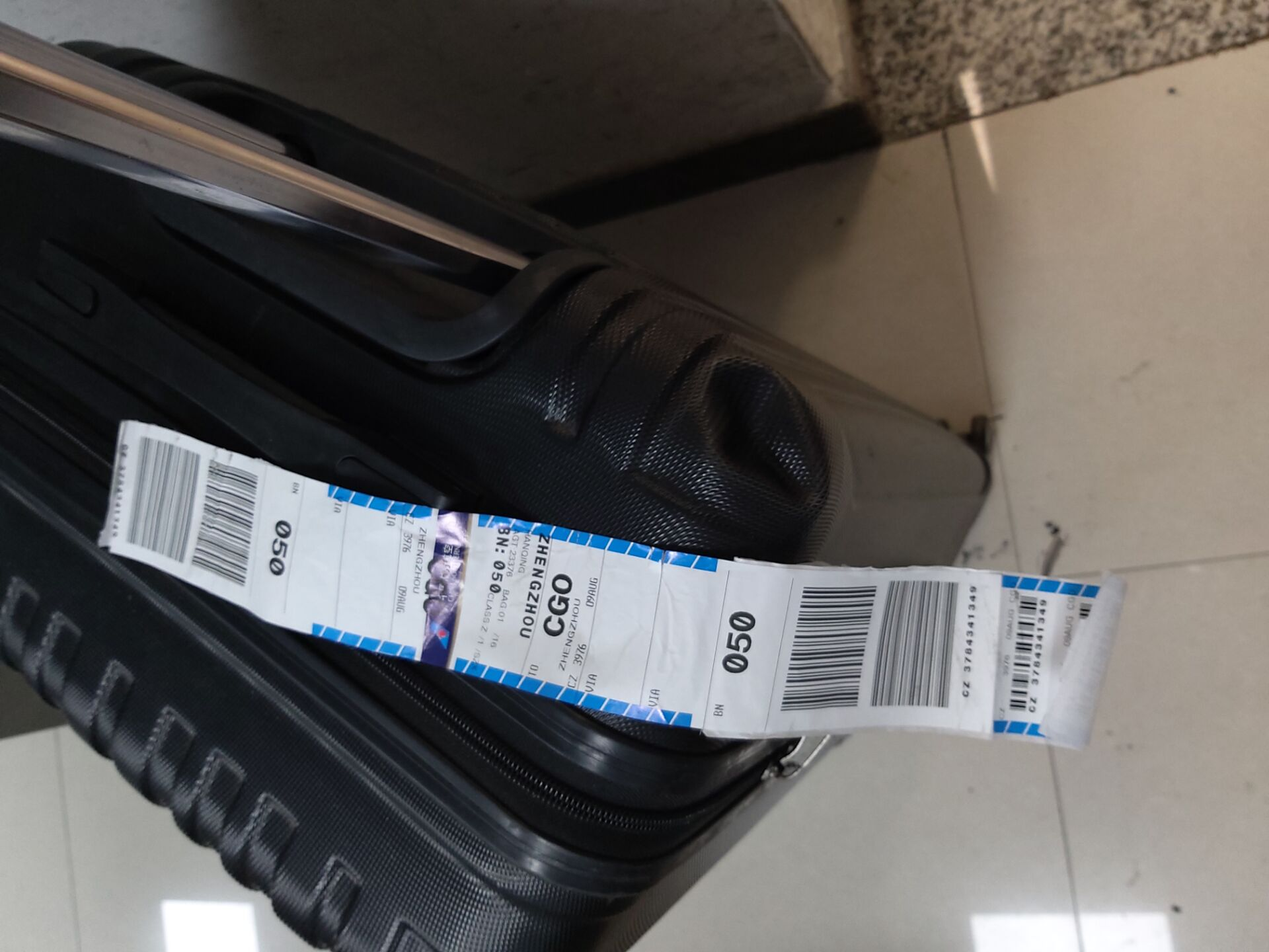rupture: (704, 358, 815, 514)
